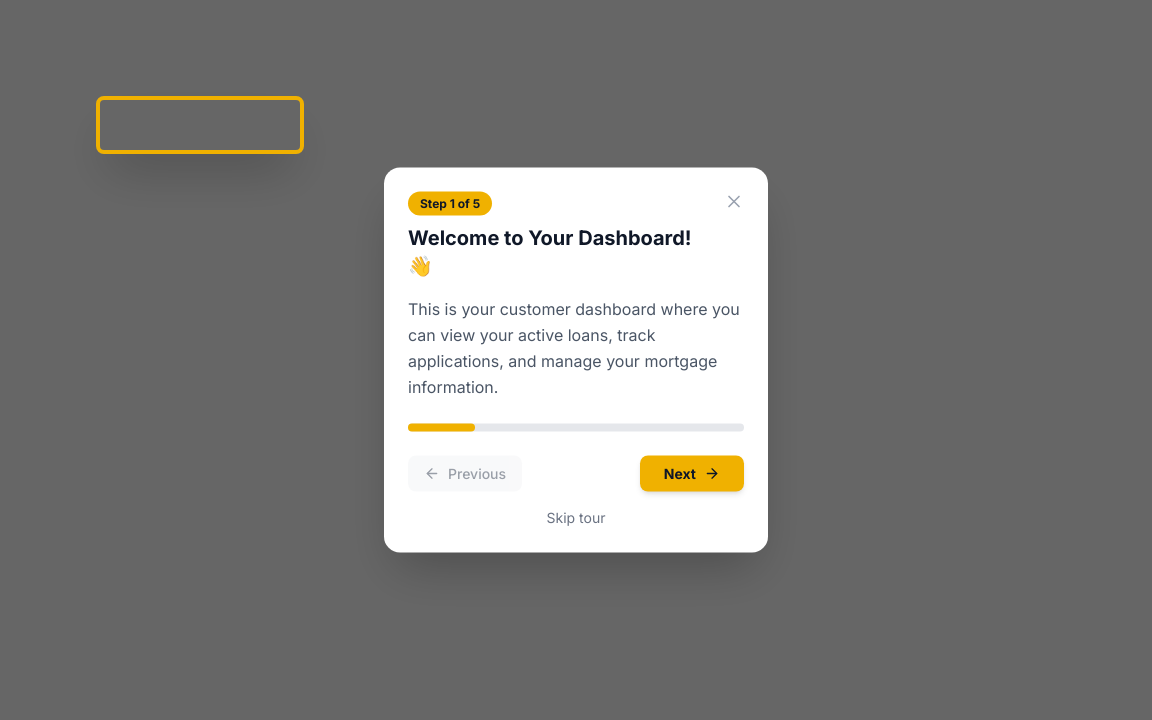
Test: DashboardWalkthrough › should show "Got it!" button on last step
This screenshot has width=1152, height=720.
Click the button "Next".
click(692, 474)  # box [640,456,744,492]
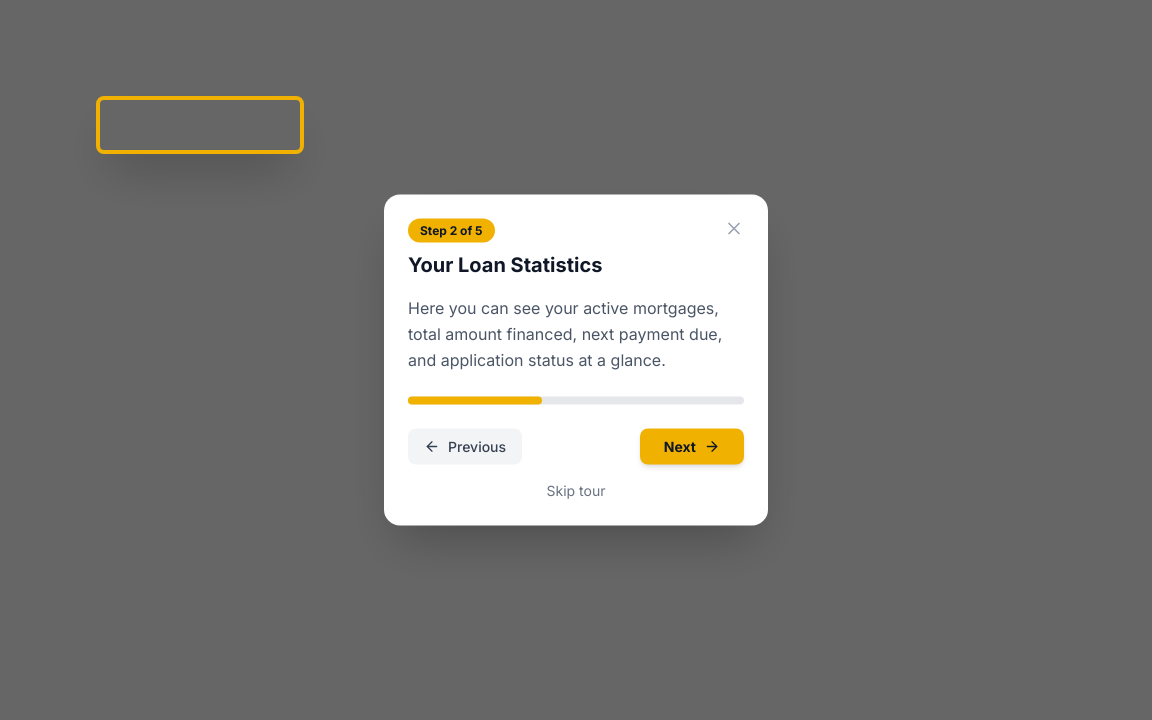
Click the button "Next".
click(692, 446)  # box [640,428,744,464]
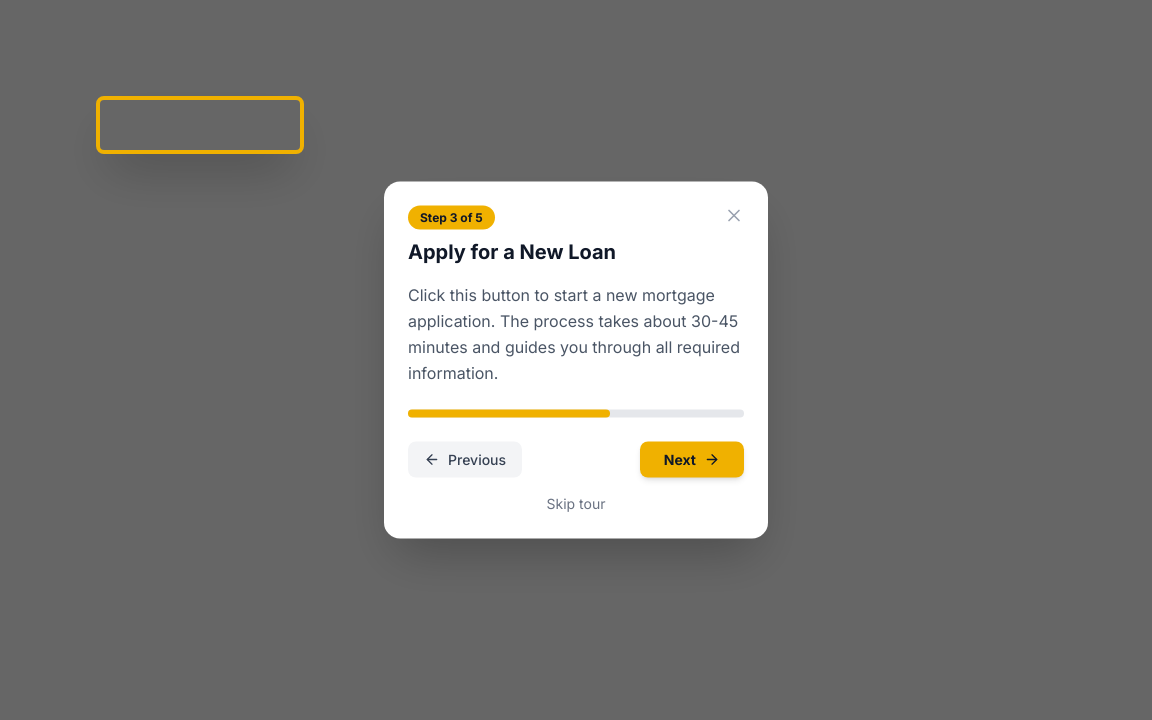
Click the button "Next".
click(692, 460)  # box [640,442,744,478]
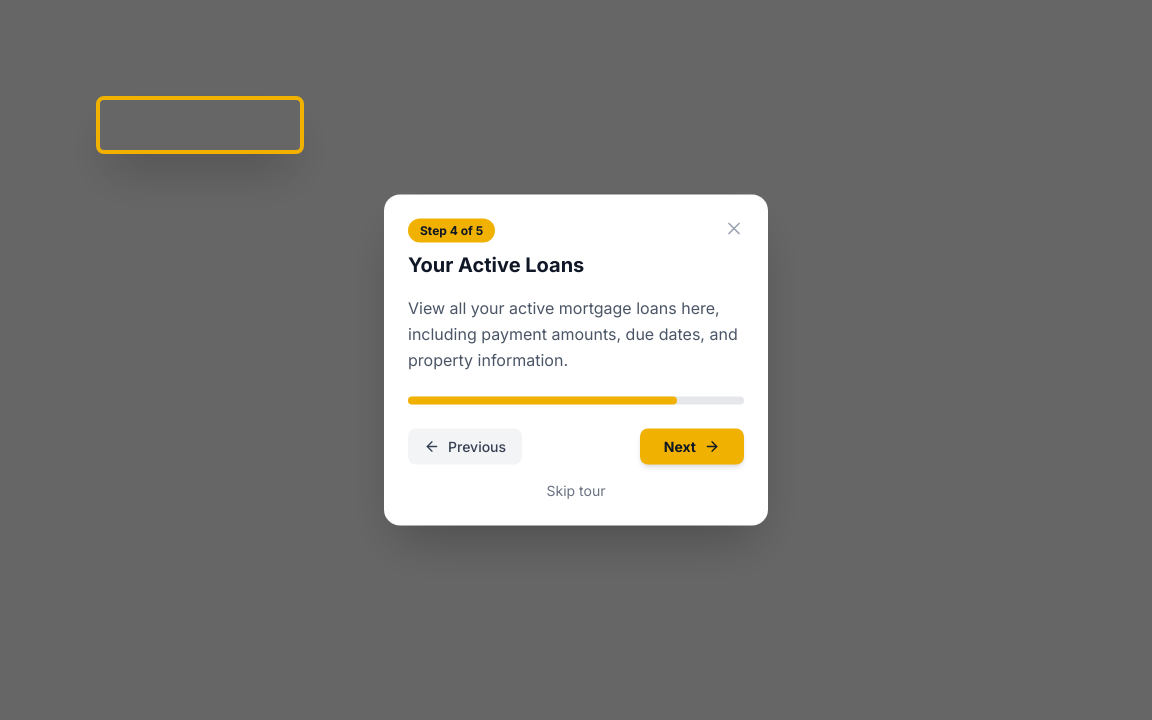
Click the button "Next".
click(692, 446)  # box [640,428,744,464]
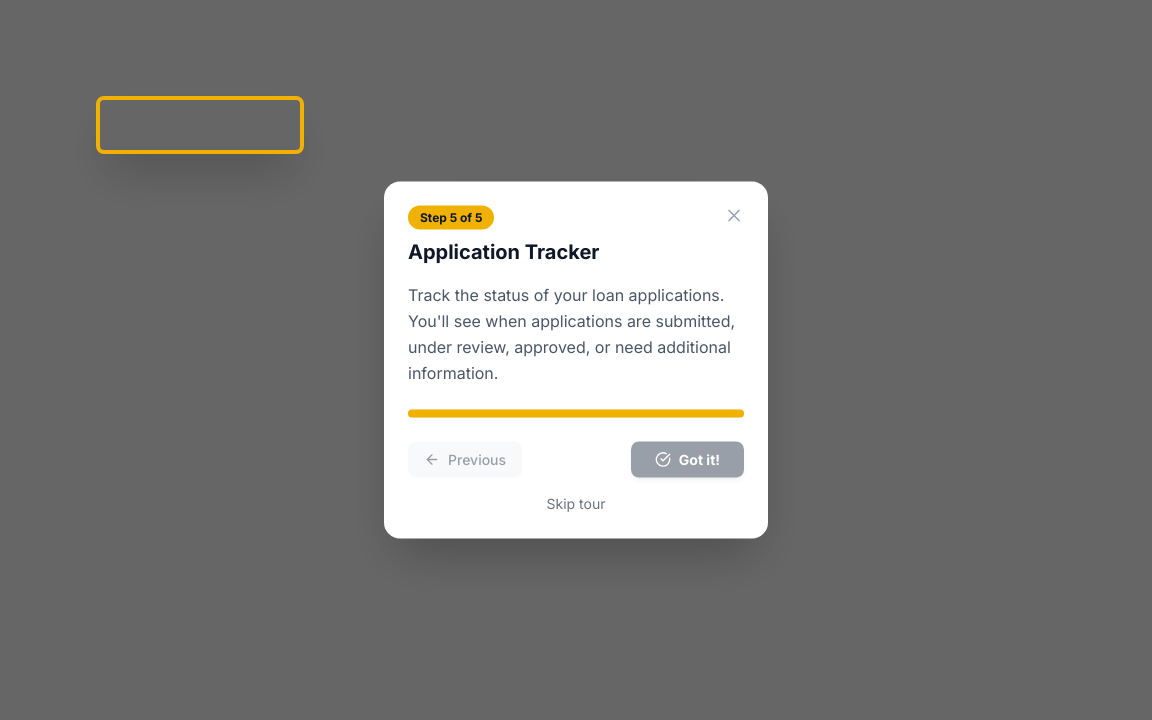
Now the button "Got it!" is shown, box [631,442,744,478]
